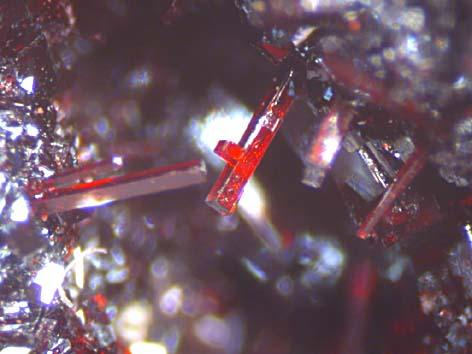cuprite: (206, 61, 296, 215), (23, 161, 205, 214), (358, 150, 427, 238), (305, 108, 353, 180)
